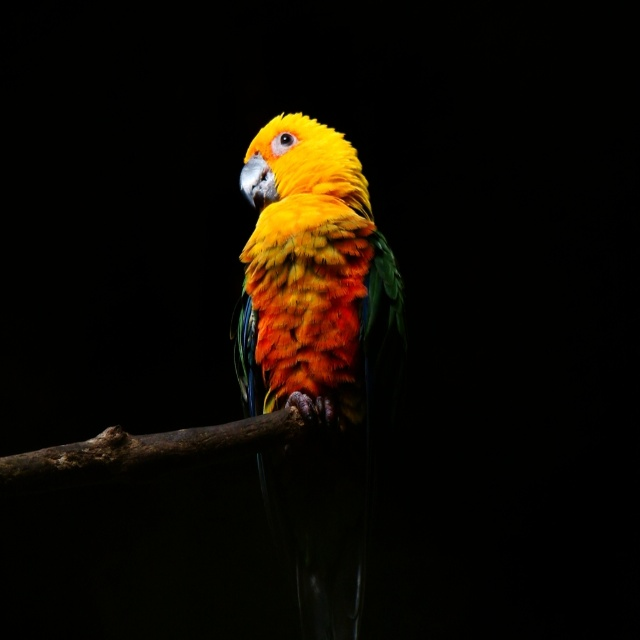Parrot: (228, 107, 409, 639)
